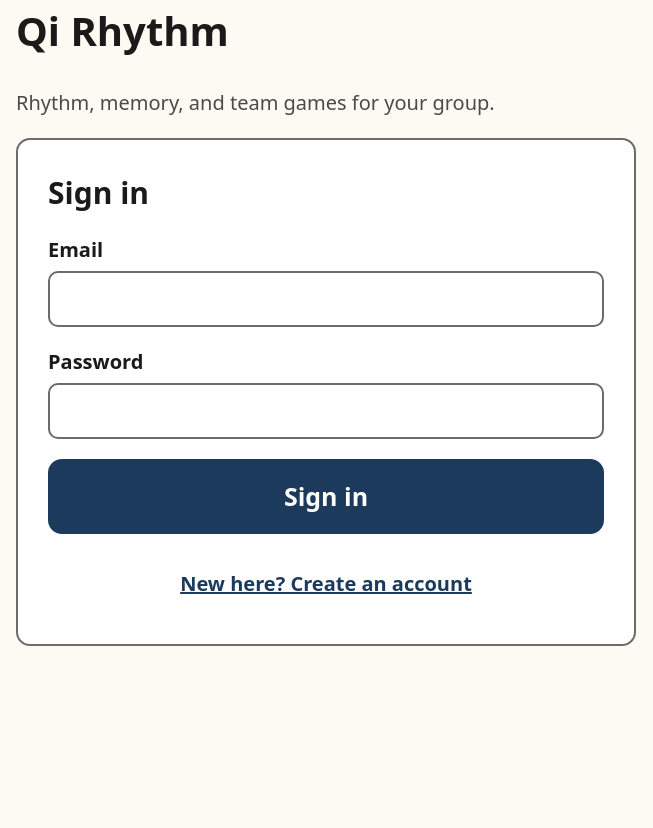
Scenario: can switch to create-account form
Click the button "New here? Create an account" at [326, 584], box left=48, top=554, right=604, bottom=614
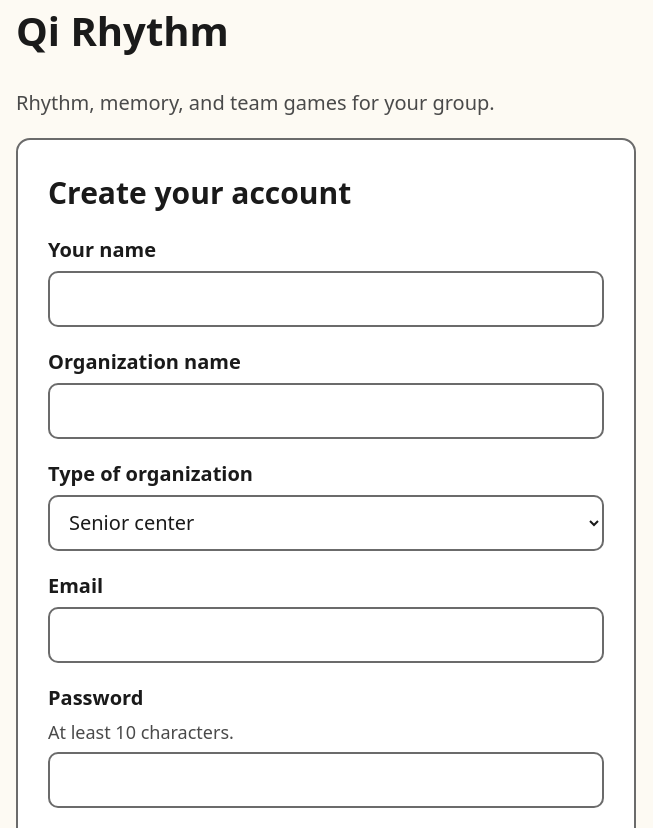
expect the field labelled "Organization name" is shown: met, box left=48, top=383, right=604, bottom=439
expect the text "At least 10 characters." is shown: met, box left=48, top=720, right=234, bottom=744
